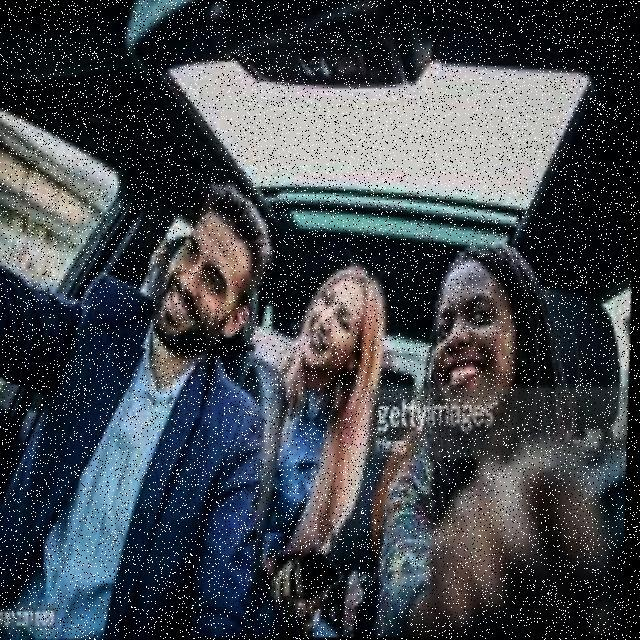noSeatbelt: (0, 288, 263, 598)
